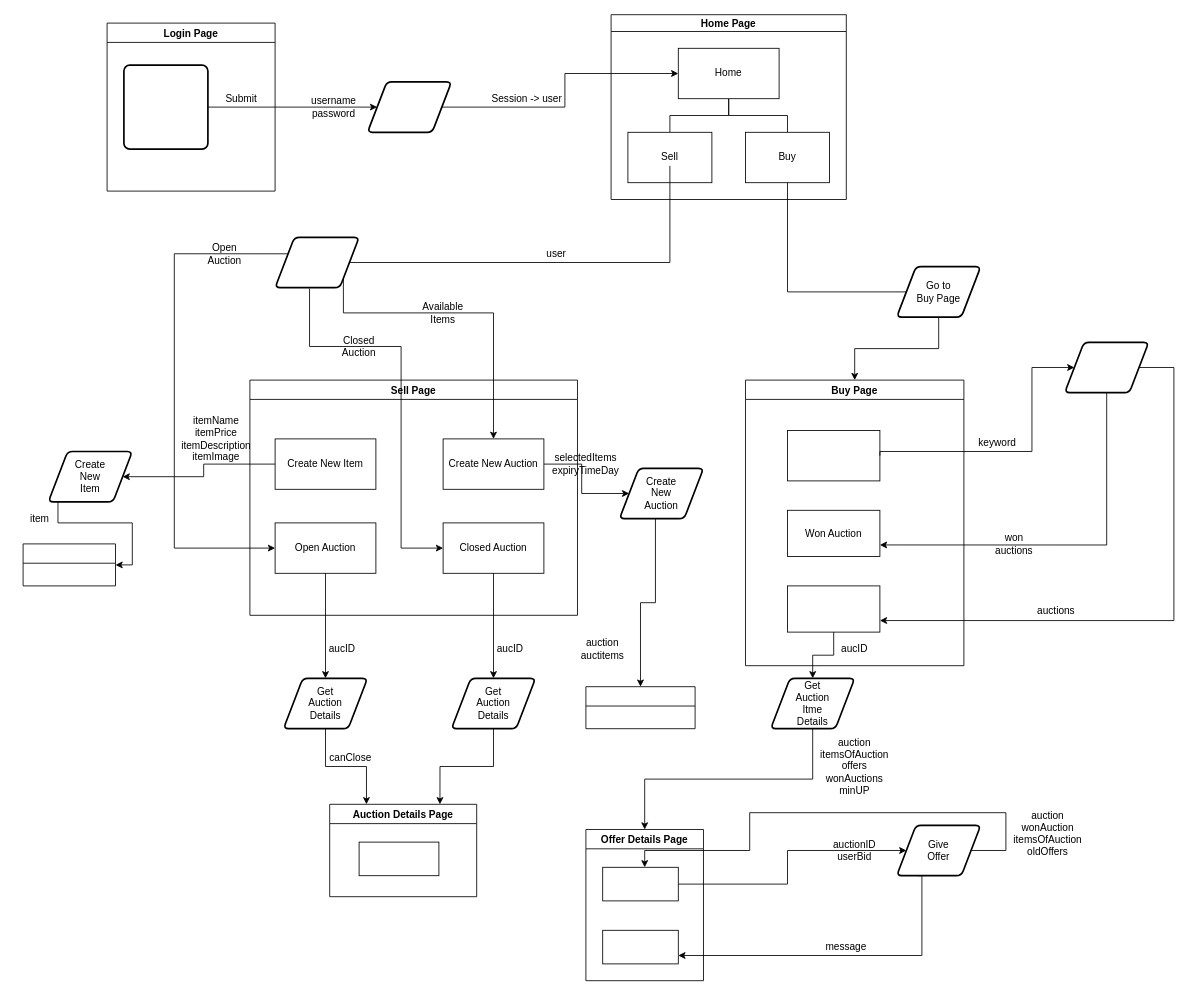
Image size: 1195x995. Some labels were removed from this diagram. Each missing label, with the centre of its shape:
Auction Details: [833,608]
Check Login: [409,107]
Close Button: [398,858]
Error Message: [640,946]
Find Item With Keyword: [1106,367]
Go to Sell Page: [317,262]
Login Form - username - password: [165,107]
New Auction Page: [640,707]
New Item Page: [69,564]
Offer Input: [640,883]
Search Keyword Form: [833,455]
